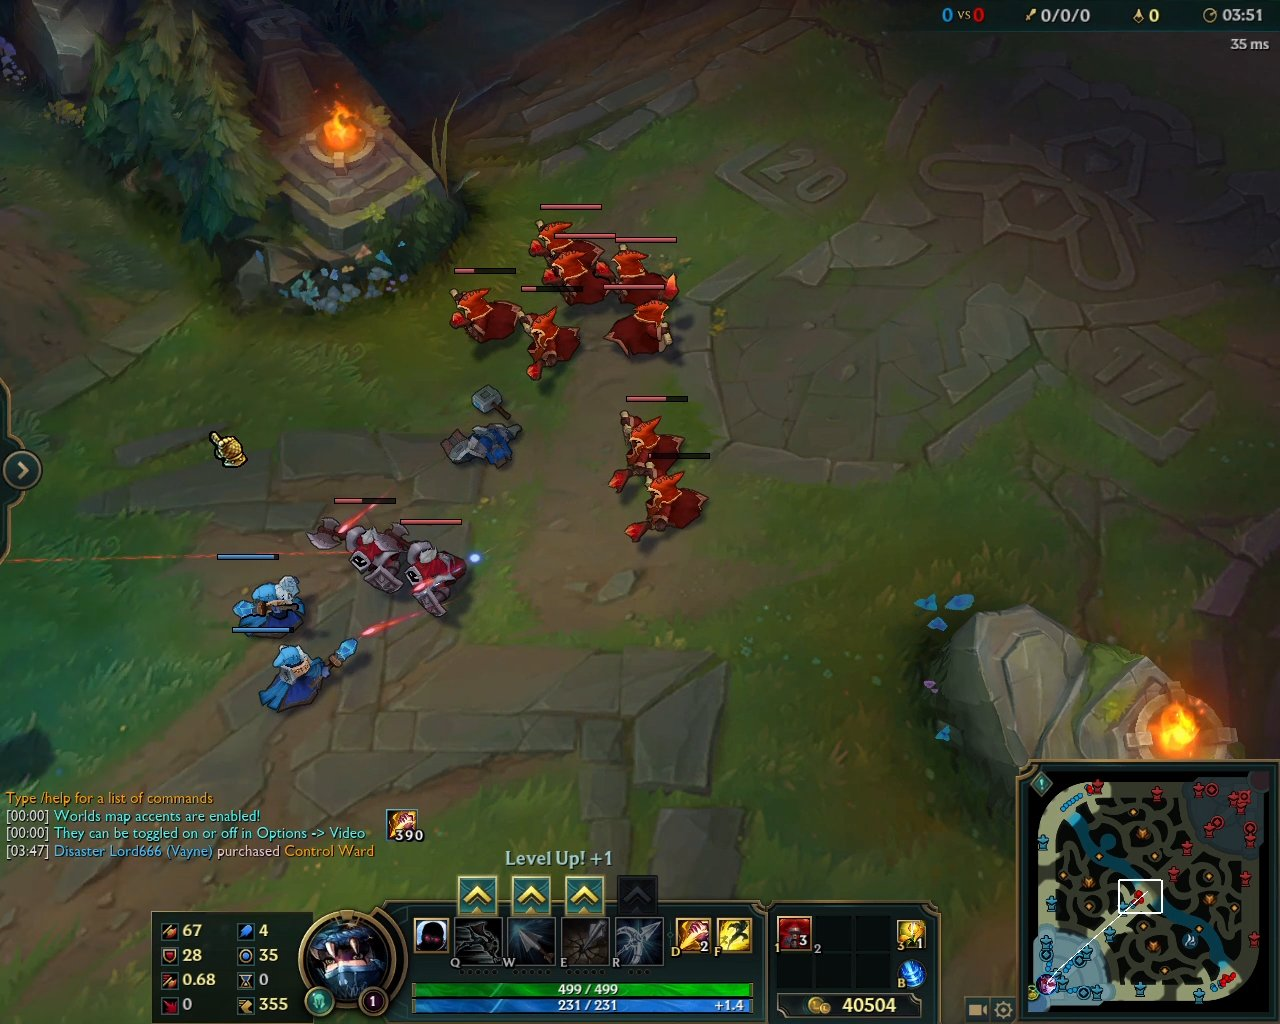EnemyMinion: (305, 496, 400, 603), (375, 519, 470, 622), (621, 449, 711, 546), (608, 395, 690, 491), (515, 286, 583, 385), (595, 234, 684, 307), (602, 275, 678, 360), (541, 233, 619, 311), (448, 267, 520, 350), (527, 201, 604, 267)
